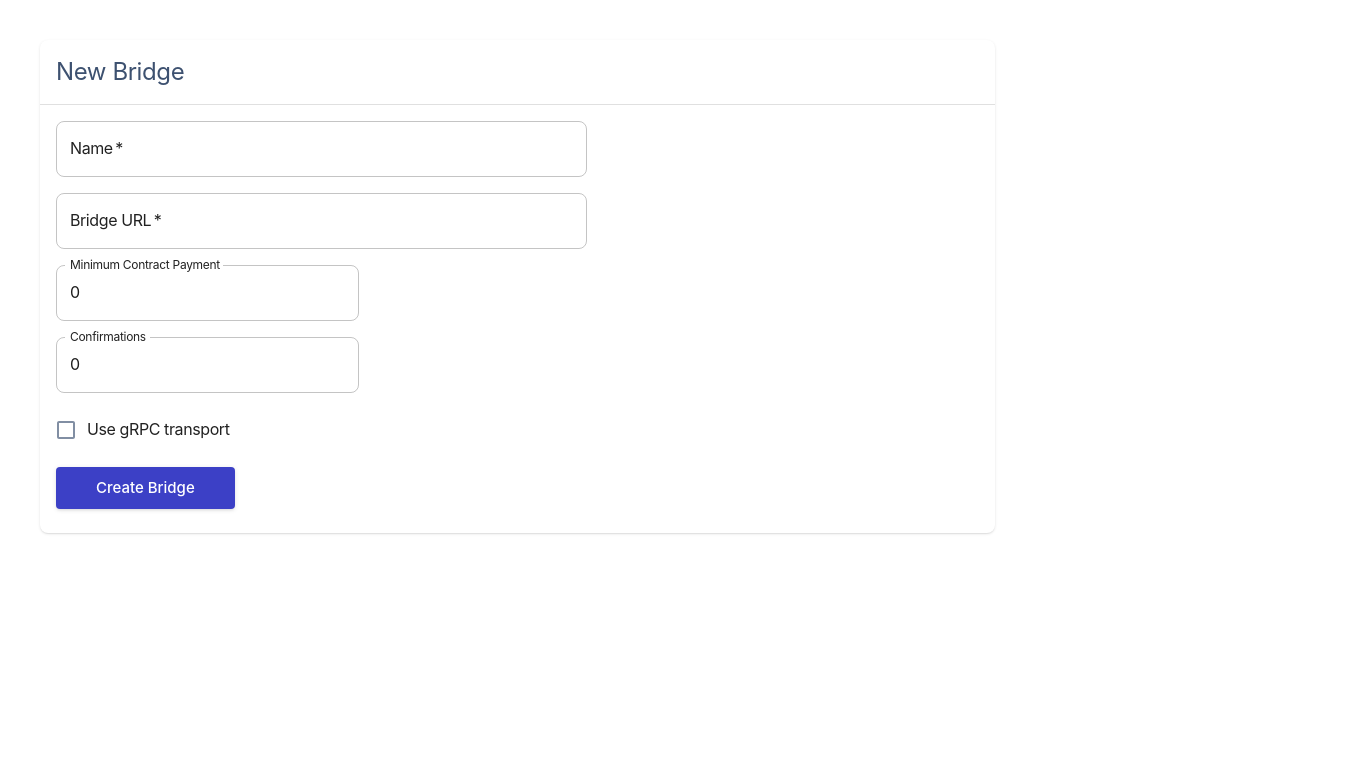
Test: NewBridgeScreen › creates a bridge
Expected: the text "New Bridge" is shown, [56, 57, 184, 86]
Expected: the form with test id "bridge-form" is shown, [54, 116, 588, 509]
Type "bridge1" into the field labelled "Name *" at (322, 149), box [56, 121, 588, 177]
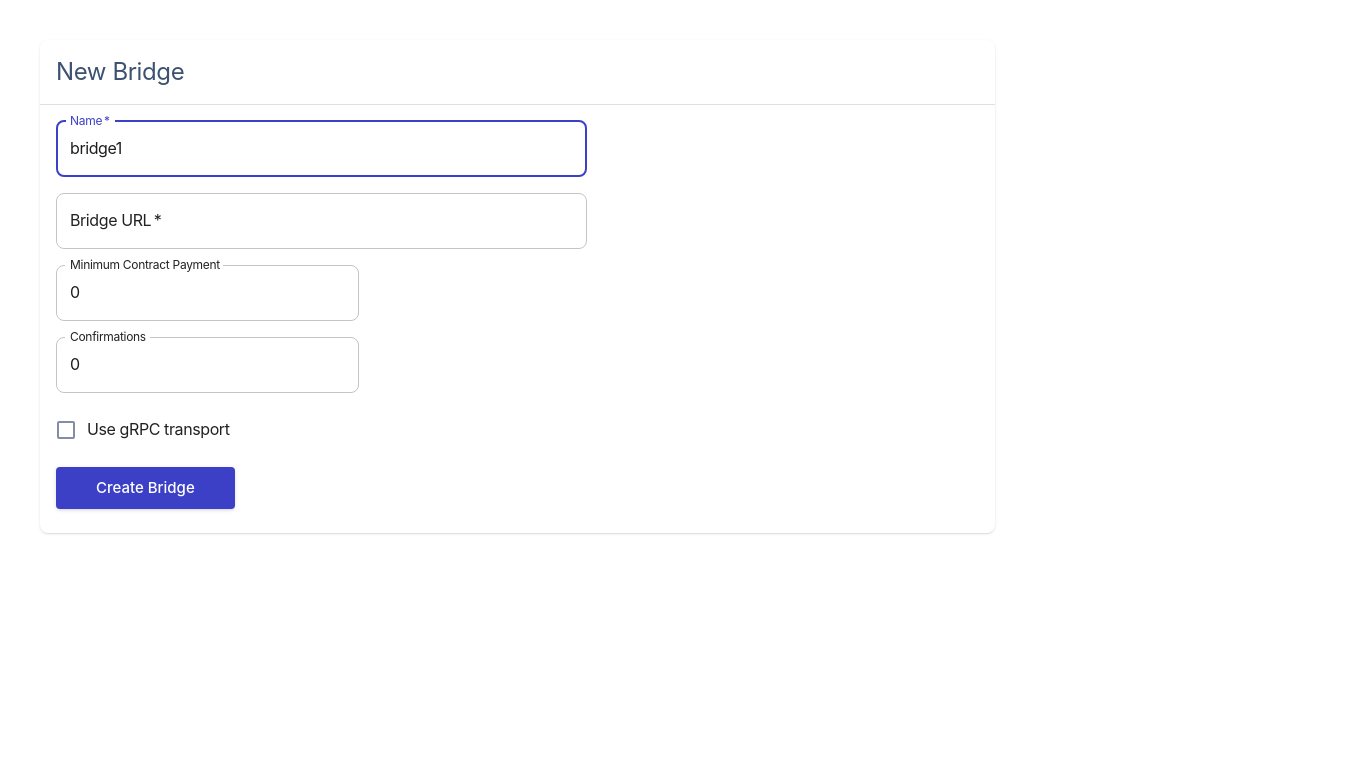
Type "https://www.test.com" into the field labelled "Bridge URL *" at (322, 221), box [56, 193, 588, 249]
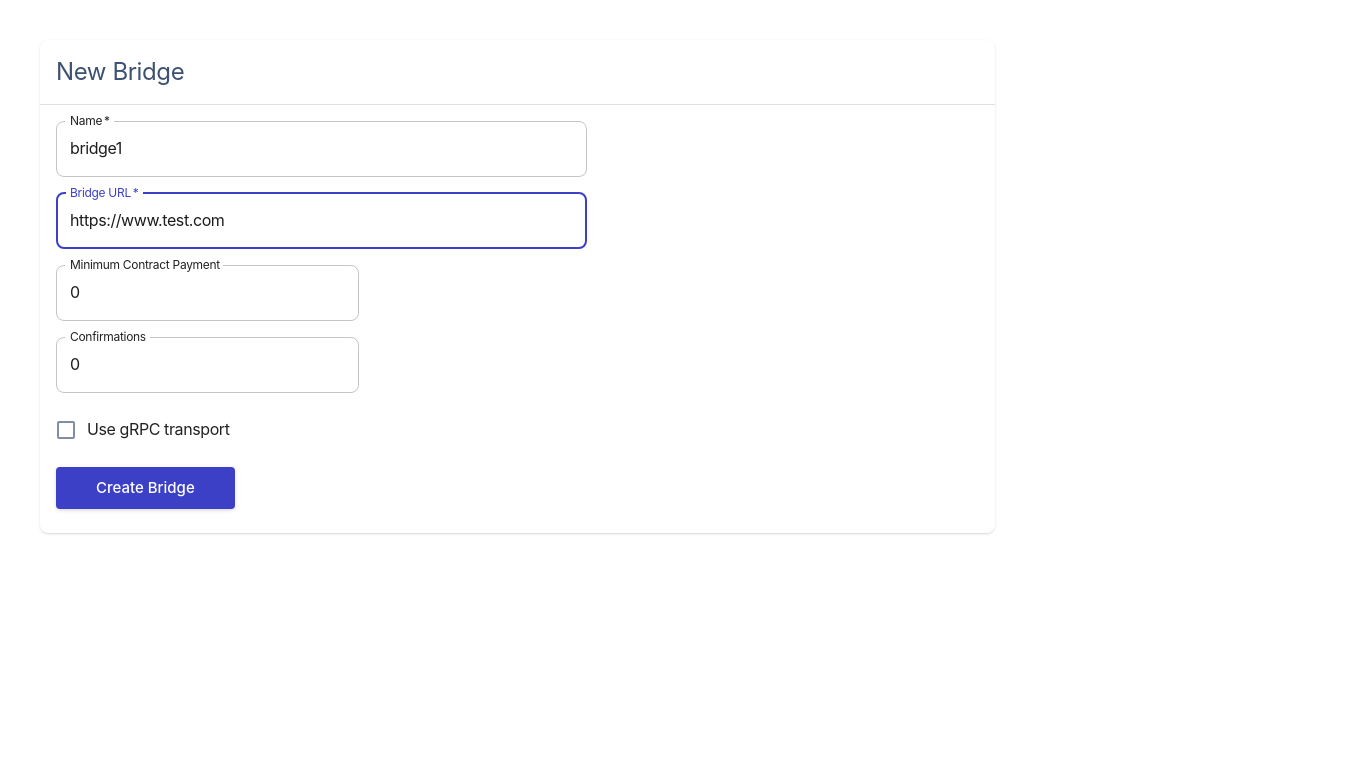
Click the button "Create Bridge" at (145, 488), box [56, 467, 235, 509]
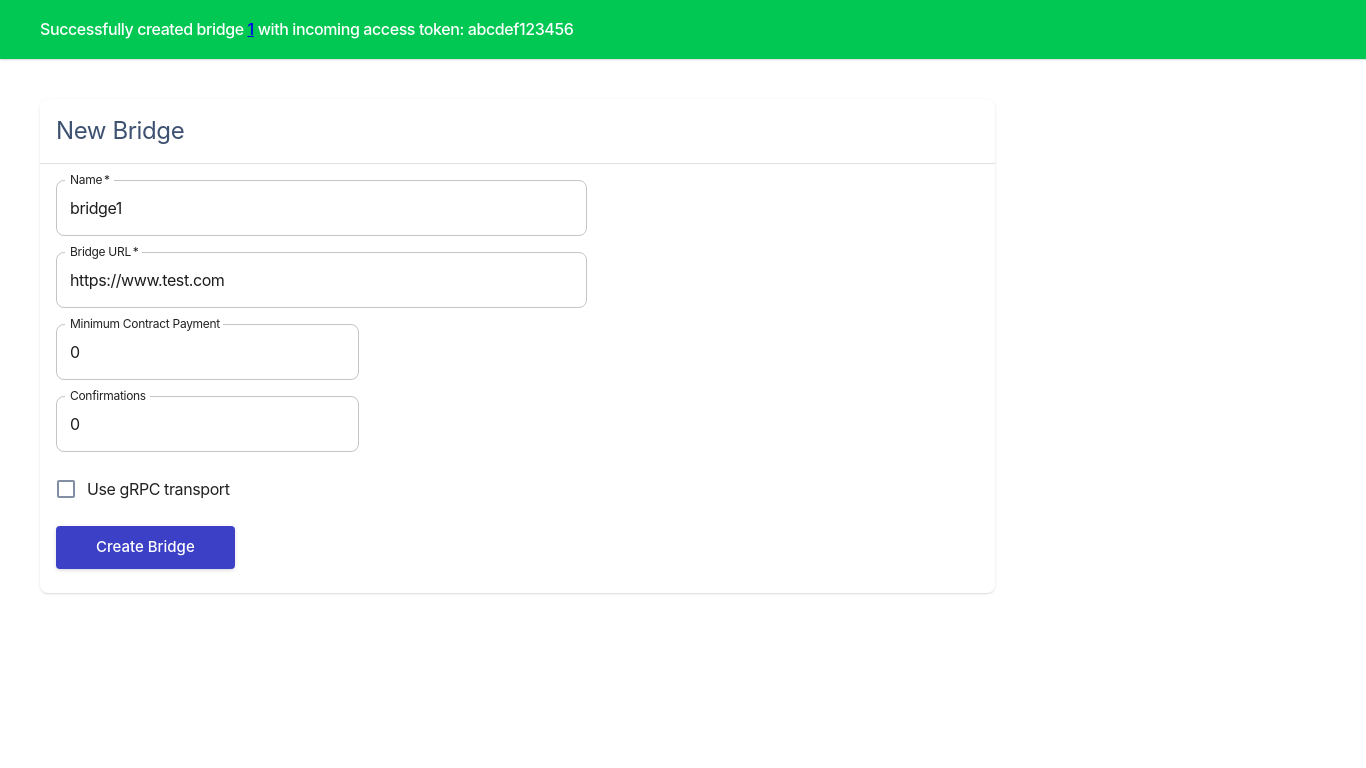
Expected: the text "Successfully created bridge" is shown, [40, 19, 248, 39]
Expected: the text "with incoming access token: abcdef123456" is shown, [254, 19, 573, 39]
